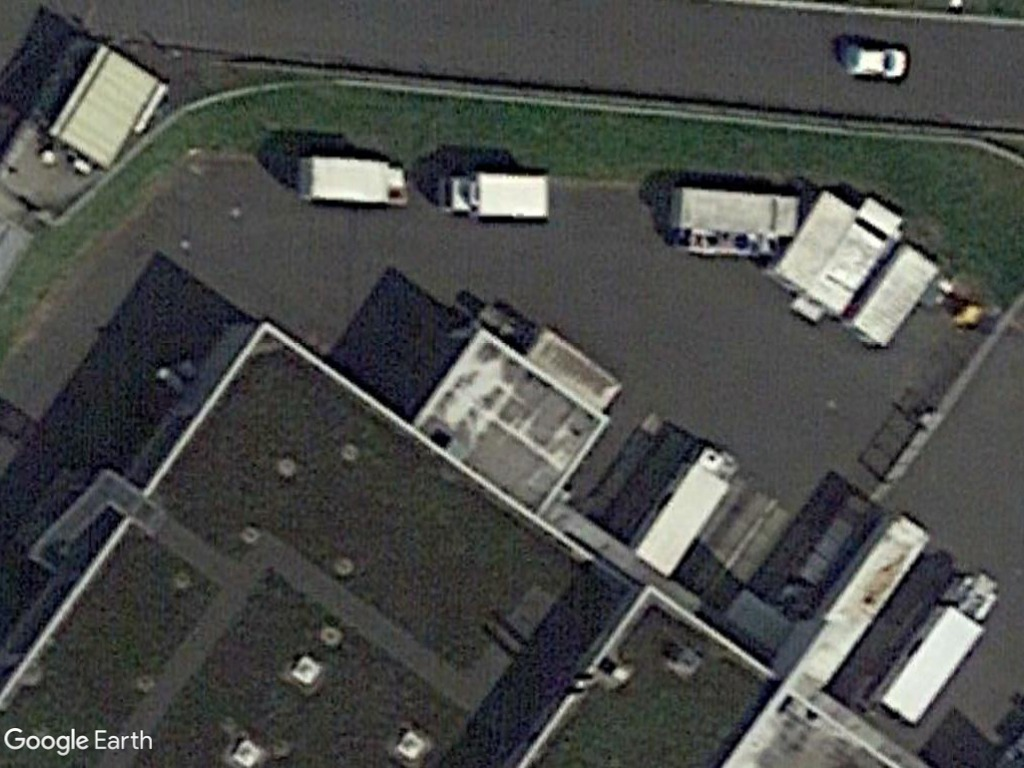car: (833, 32, 917, 88)
truck: (862, 566, 1011, 728), (621, 436, 745, 585), (288, 142, 415, 217), (433, 162, 559, 230)
